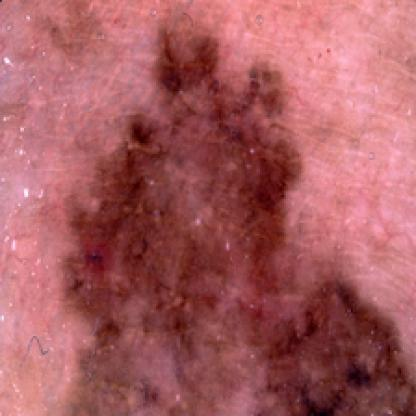malignant: (78, 26, 403, 414)
